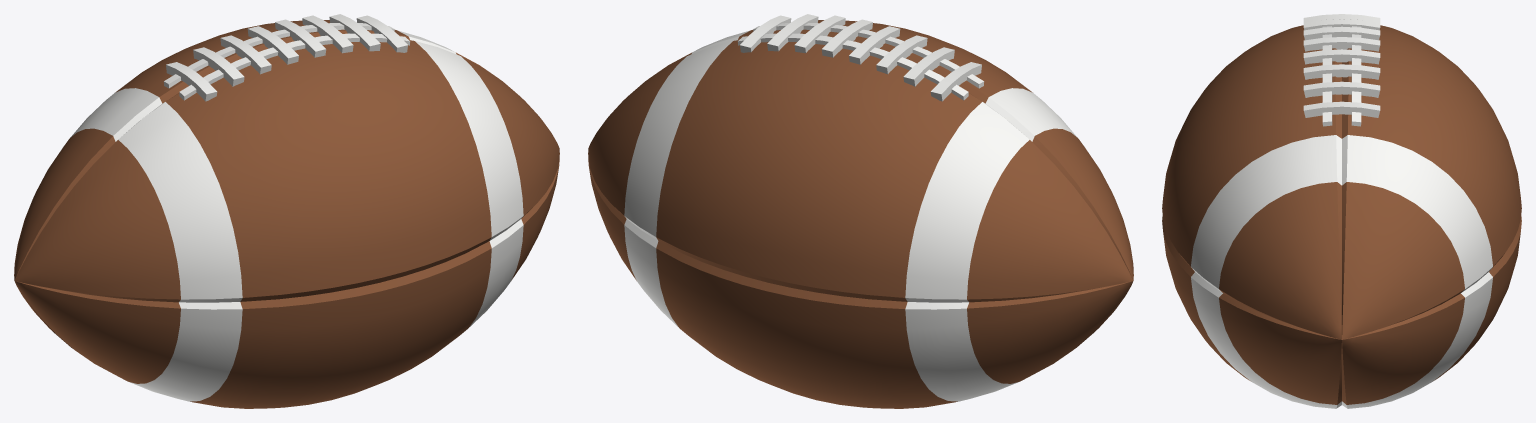
The model's file is football.glb.
3 views of the same model, side by side, from view 1: azimuth 30°, elevation 25°; view 2: azimuth 150°, elevation 25°; view 3: azimuth 270°, elevation 25° (orthographic). The views are drawn at different scales.
Parts seen in each view (by area): view 1: football; view 2: football; view 3: football.
Part boxes in pixels (x1=…): football: x1=14, y1=14, x2=559, y2=408; football: x1=588, y1=14, x2=1133, y2=408; football: x1=1162, y1=14, x2=1521, y2=408.
Bounding box in the file's own units: 0.28 × 0.173 × 0.1699.
